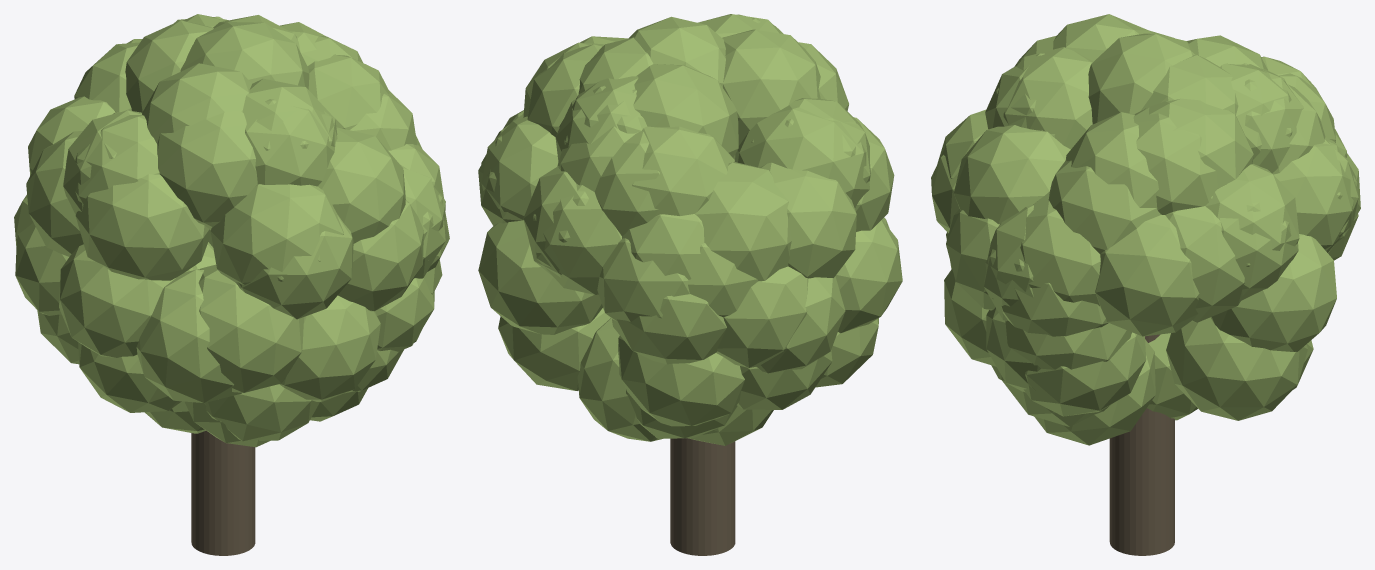
Rendered from Tree_1.fbx.
3 views of the same model, side by side, from view 1: azimuth 30°, elevation 25°; view 2: azimuth 150°, elevation 25°; view 3: azimuth 270°, elevation 25° (orthographic).
Visible parts, largest first — view 1: Tree_3; view 2: Tree_3; view 3: Tree_3.
Boxes of the visible parts, <box> form: Tree_3: <box>14,14,449,555</box>; Tree_3: <box>478,14,902,555</box>; Tree_3: <box>931,14,1360,555</box>.
Size of the model in its own units: 167 by 219 by 165.
